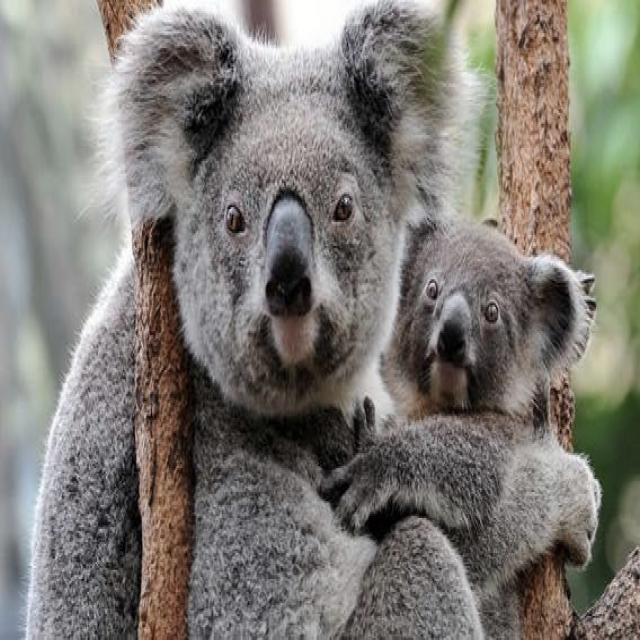koala: (25, 0, 598, 638), (321, 220, 594, 529)
